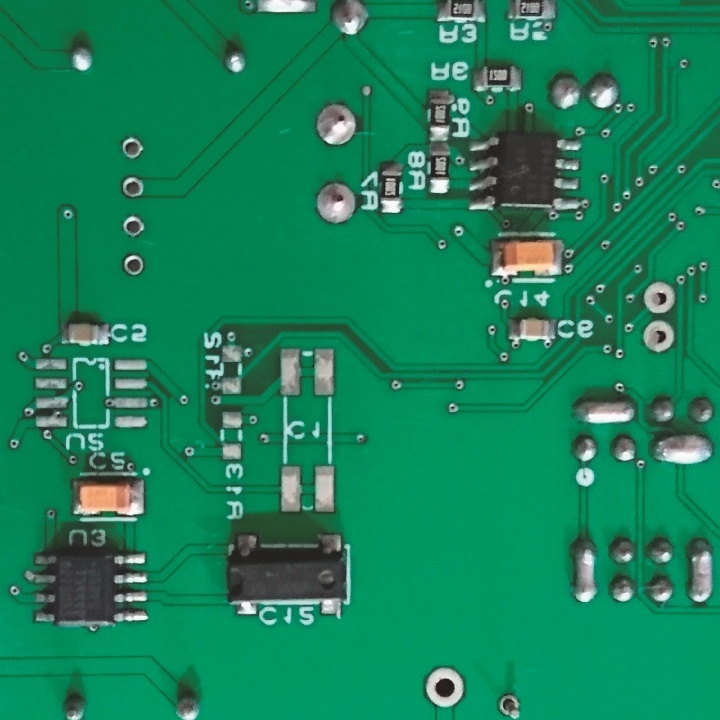F: (421, 661, 467, 709), (313, 101, 356, 146), (313, 183, 355, 224), (640, 316, 677, 354), (641, 278, 676, 315), (495, 687, 522, 720), (120, 135, 145, 161), (119, 213, 145, 238), (120, 173, 144, 199), (121, 253, 145, 277)
P: (650, 431, 715, 467), (573, 391, 639, 426), (685, 534, 715, 609), (568, 535, 599, 604)
